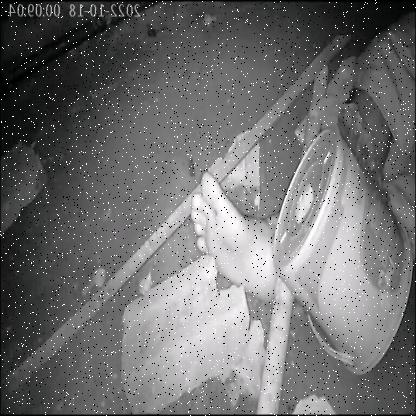leg: (182, 161, 296, 309)
